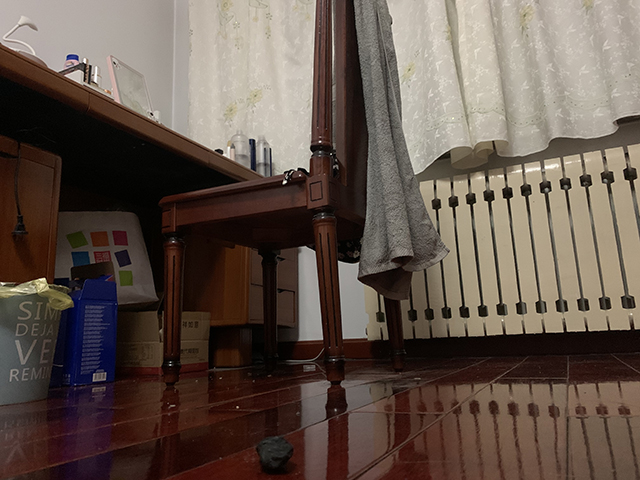curtain: (389, 1, 640, 173)
feces: (254, 432, 294, 475)
stool: (159, 1, 408, 388)
table: (1, 33, 303, 362)
trashcan: (1, 275, 75, 407)
wire: (284, 347, 326, 364)
